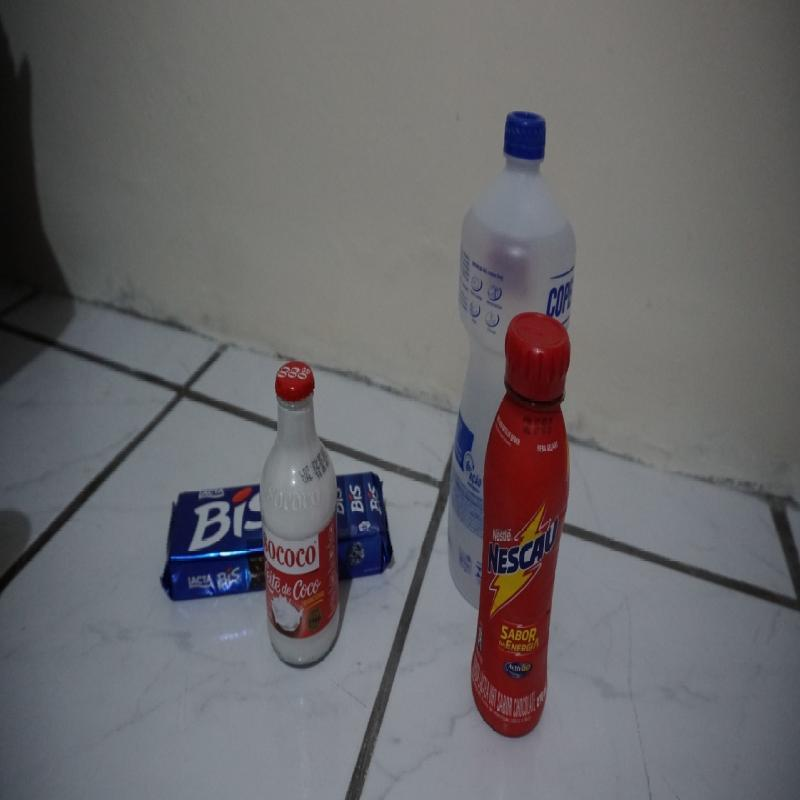Alcohol Bottle: (447, 110, 575, 620)
Chocolate Milk: (471, 310, 573, 739)
Coconut Milk: (259, 359, 344, 670)
